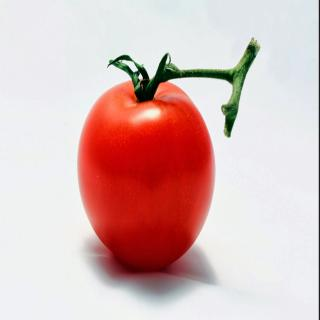Tomat: (67, 47, 225, 275)
